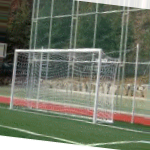goals: (6, 47, 121, 127)
